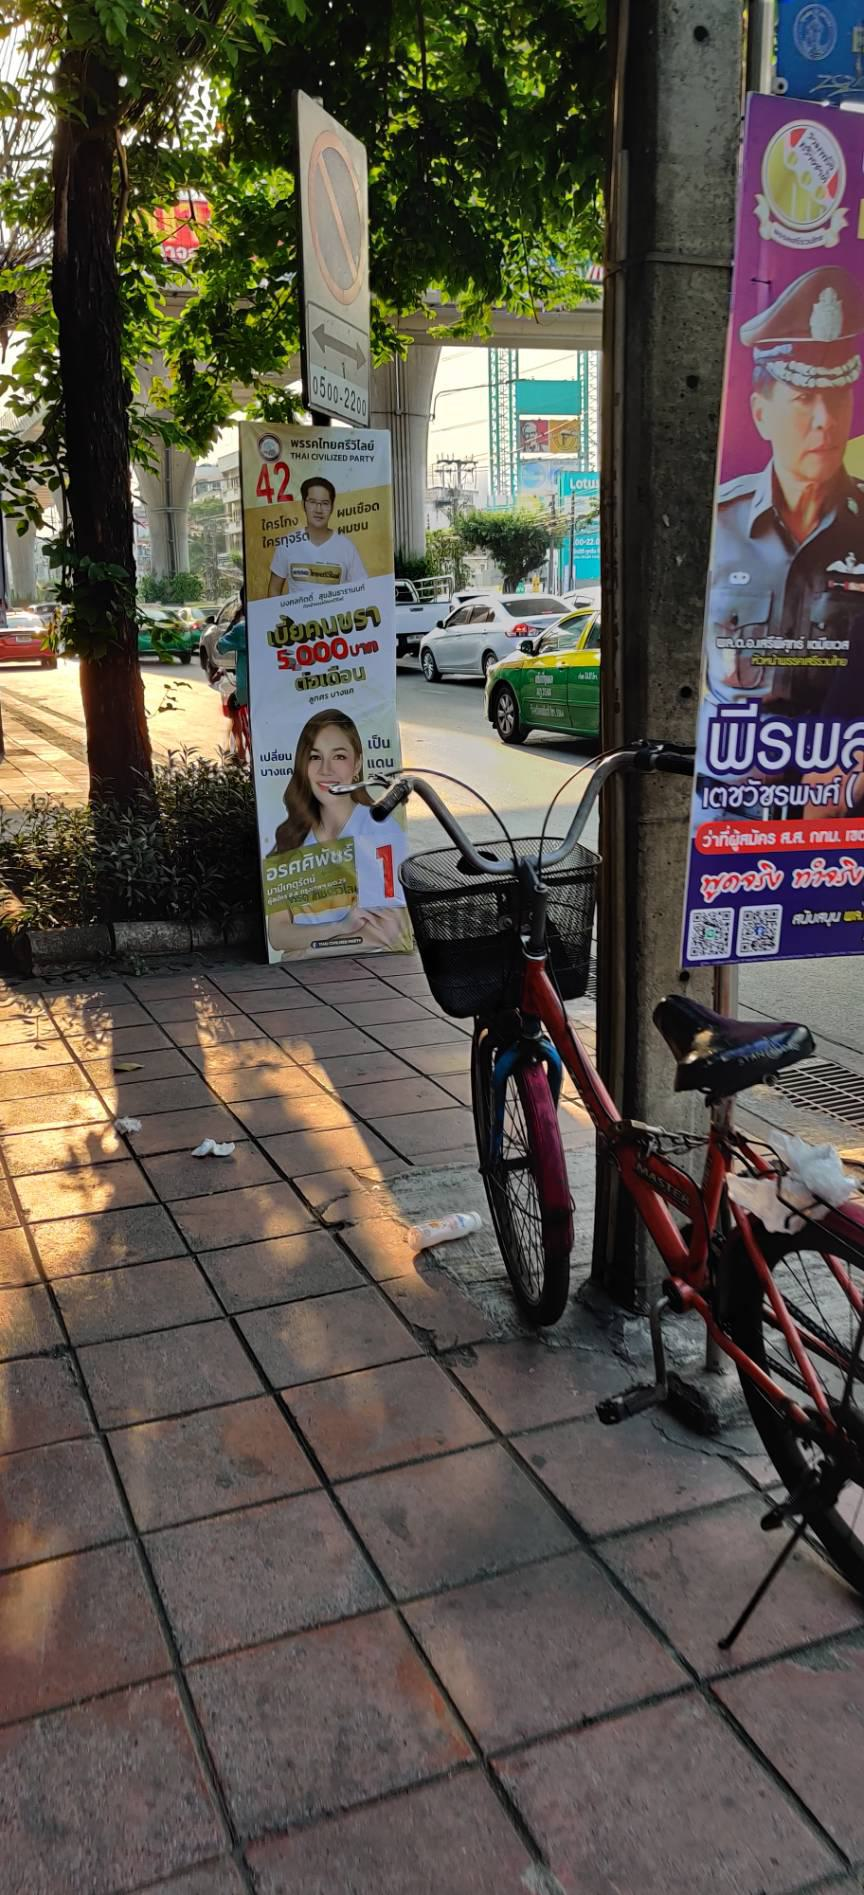Banner: (669, 98, 864, 955), (251, 418, 399, 967)
